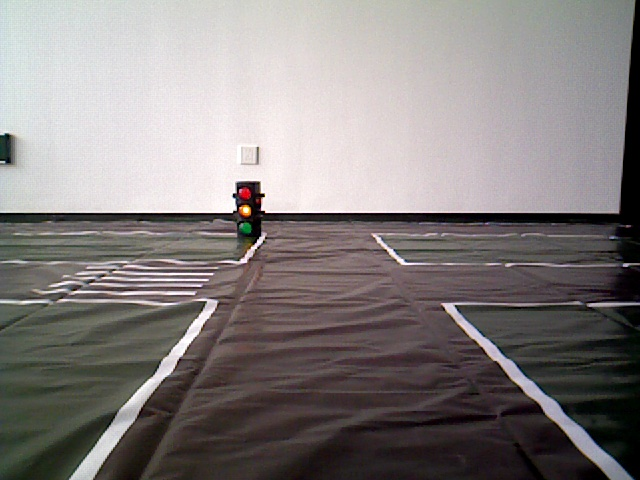yellow: (234, 184, 263, 238)
